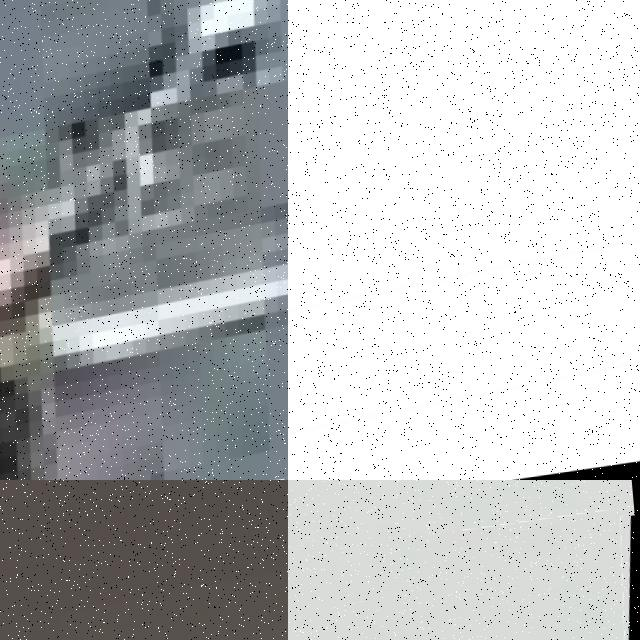0: (0, 0, 288, 480)
drone: (288, 0, 640, 480), (0, 480, 288, 640), (288, 515, 640, 640)
